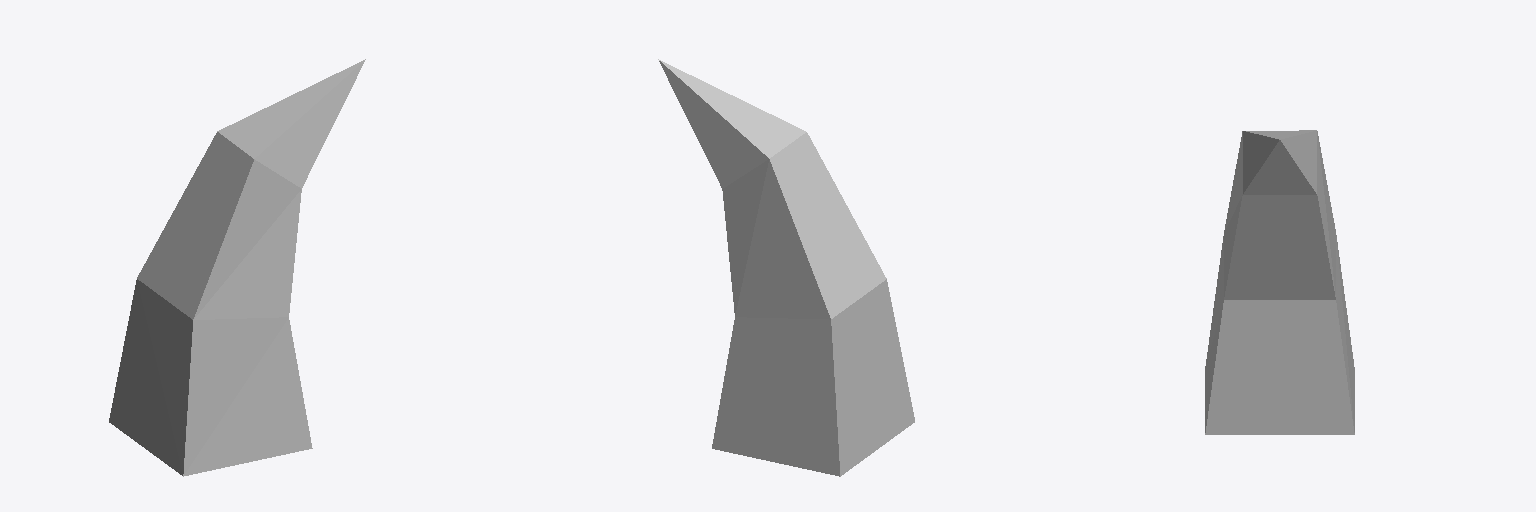
File: skeletal_000035.obj
The picture shows the model from 3 angles: view 1: azimuth 30°, elevation 25°; view 2: azimuth 150°, elevation 25°; view 3: azimuth 270°, elevation 25°; orthographic projection.
Visible parts, largest first — view 1: Cube; view 2: Cube; view 3: Cube.
Part boxes in pixels (bbox=[...]): Cube: bbox=[109, 59, 365, 476]; Cube: bbox=[658, 59, 914, 476]; Cube: bbox=[1205, 130, 1354, 434].
Size of the model in its own units: 3.4 by 5.01 by 2.